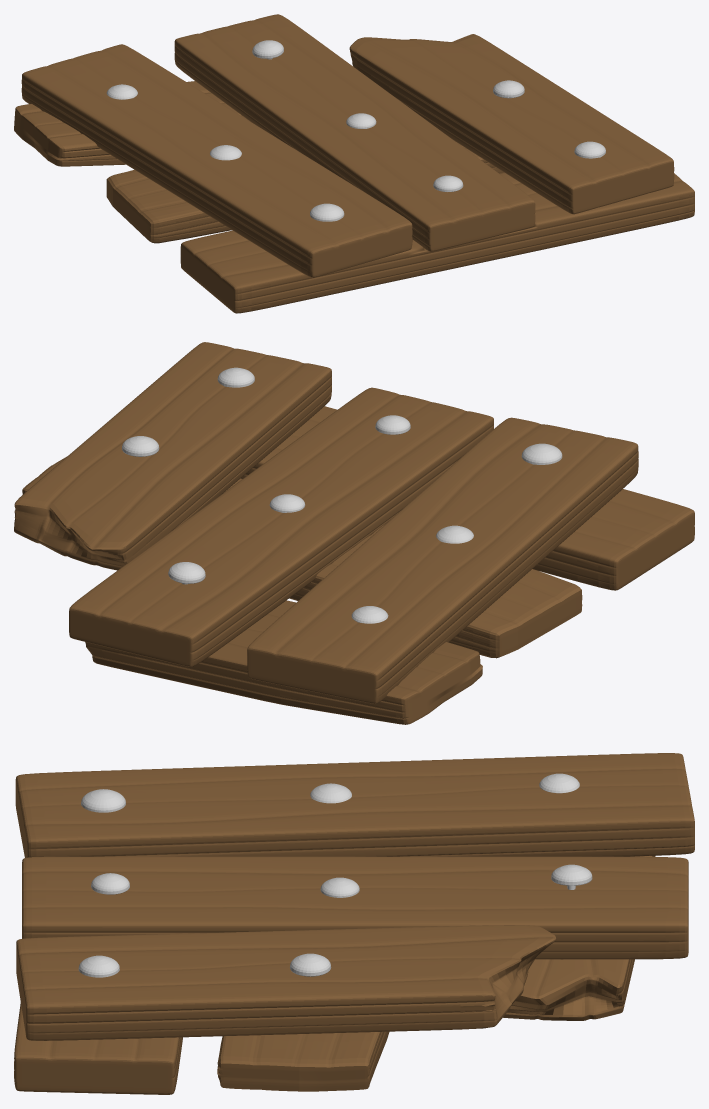
3 views of the same model, one above another, from view 1: azimuth 30°, elevation 25°; view 2: azimuth 150°, elevation 25°; view 3: azimuth 270°, elevation 25° (orthographic). The views are drawn at different scales.
Visible parts, largest first — view 1: plankb..002; view 2: plankb..002; view 3: plankb..002.
Boxes of the visible parts, box(x1,y1,x2,y2) form: plankb..002: box(14, 14, 694, 313); plankb..002: box(14, 342, 694, 724); plankb..002: box(14, 753, 694, 1094).
Size of the model in its own units: 5448 by 984 by 5460.
